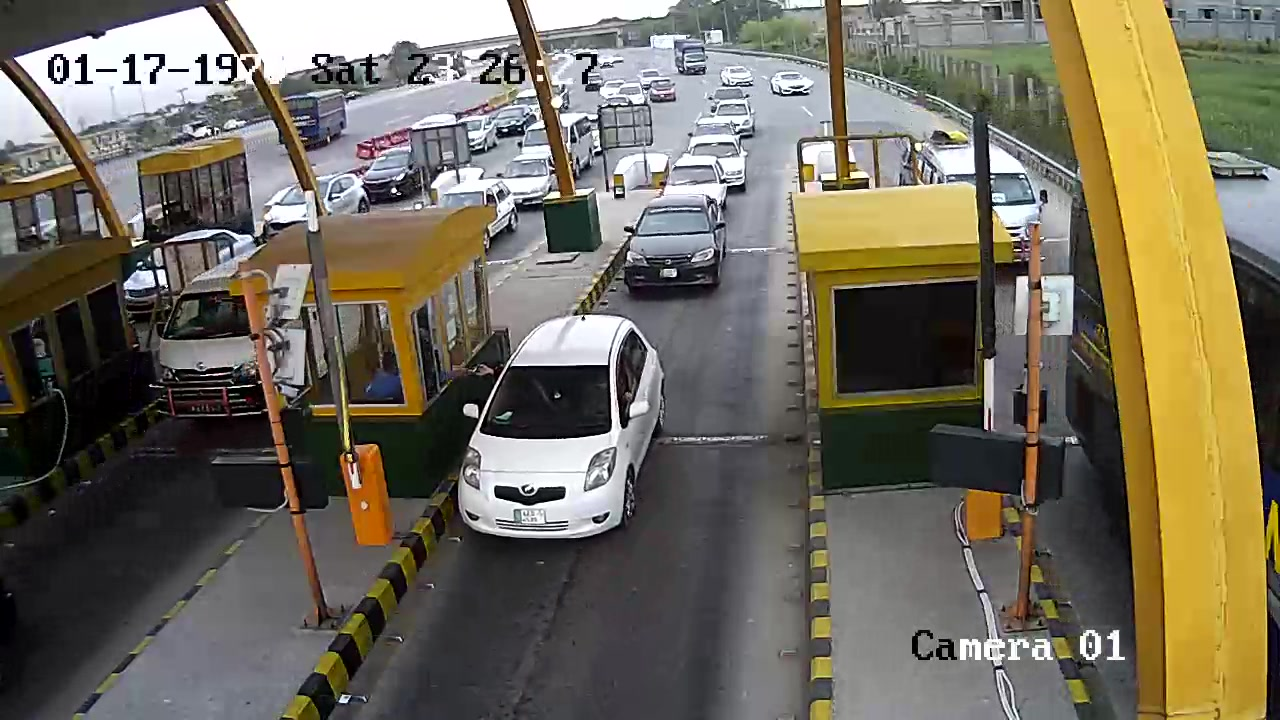F1: (454, 306, 675, 540)
